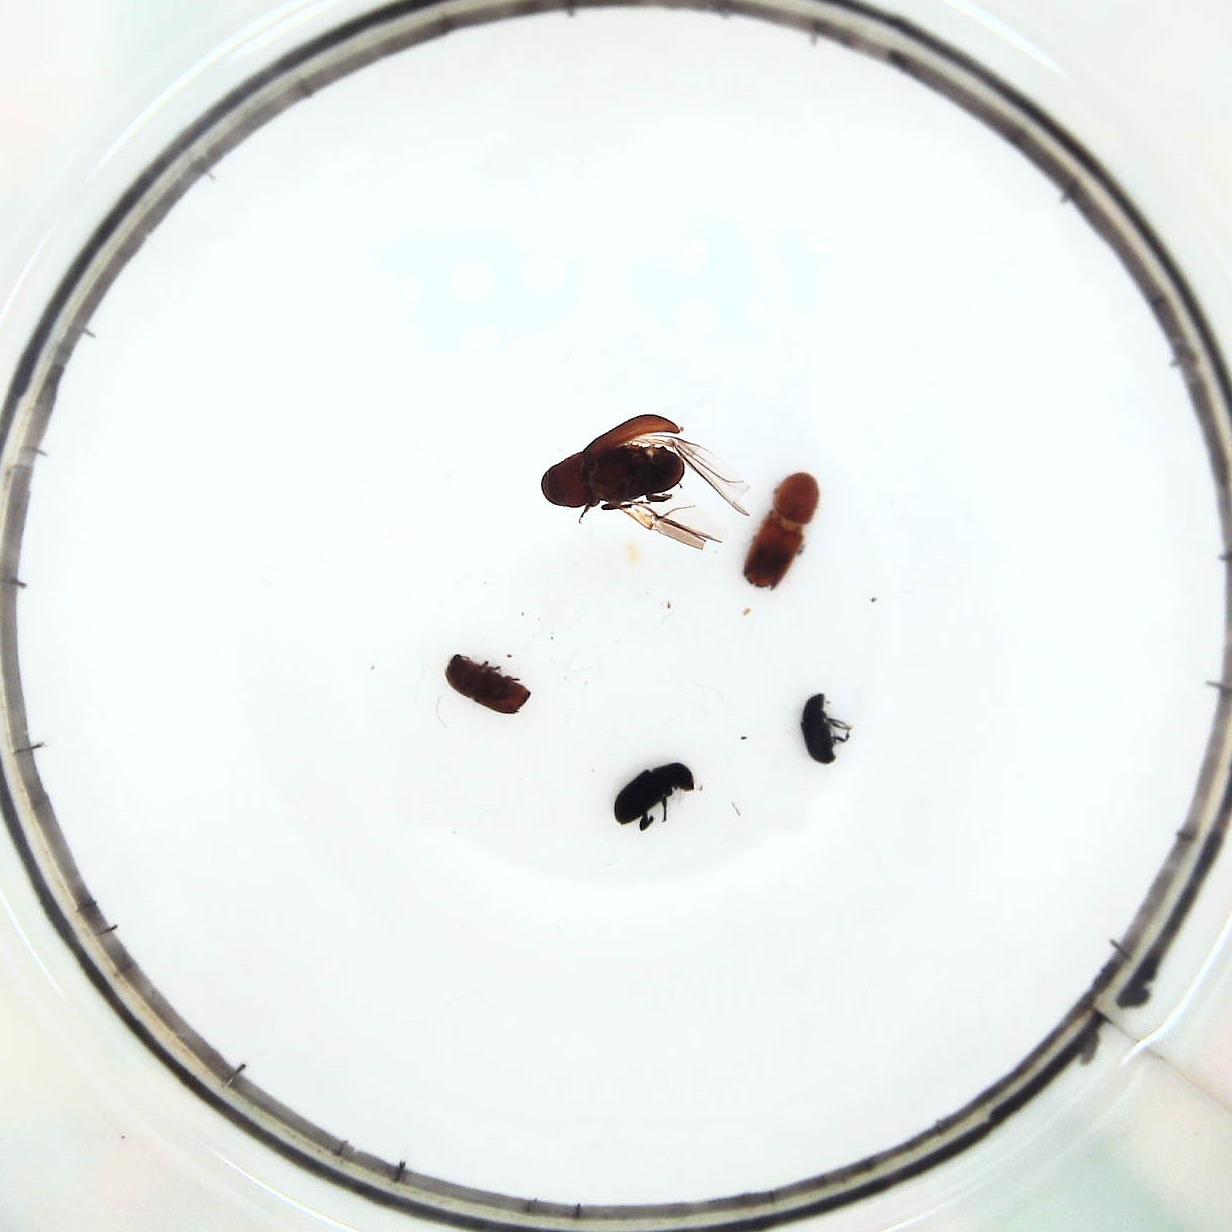Boerner: (742, 470, 825, 586)
Leconte: (534, 406, 716, 554)
Linnaeus: (448, 646, 534, 713)
armandi: (615, 762, 698, 830)
coleoptera: (798, 694, 848, 762)
